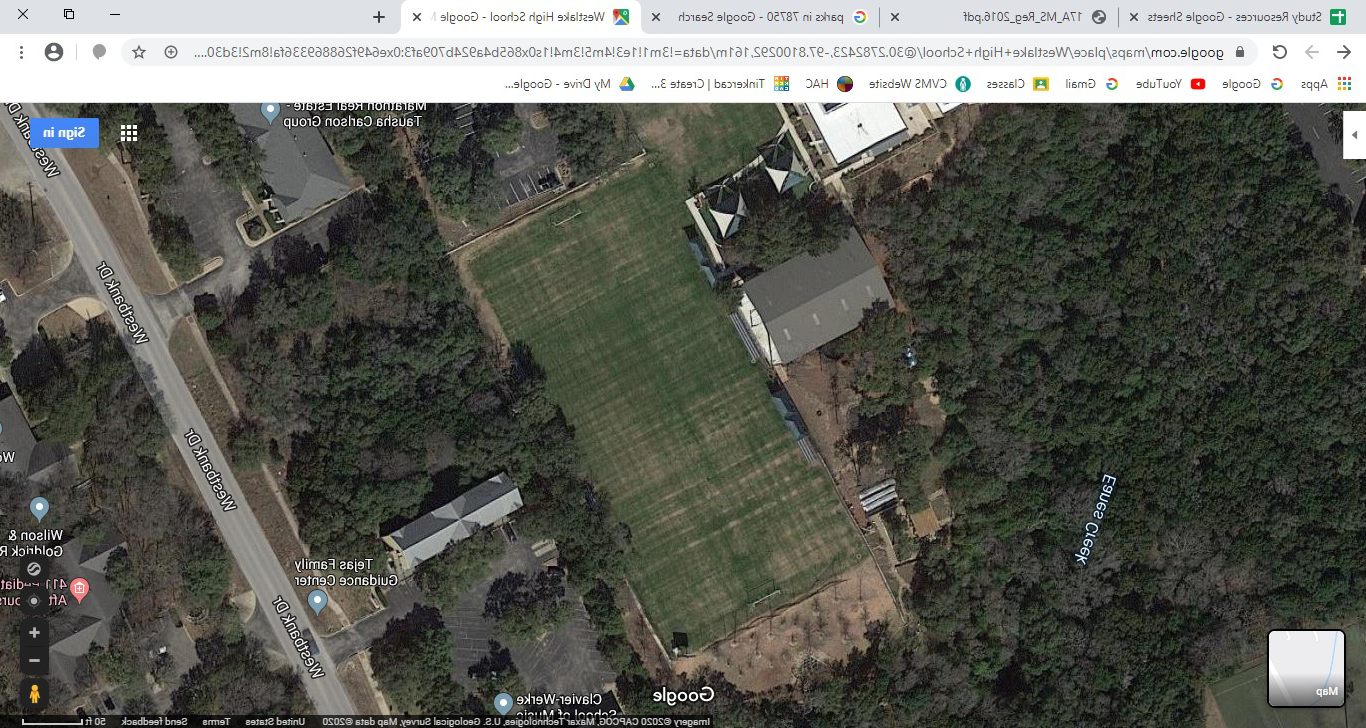soccer: (404, 168, 928, 676)
